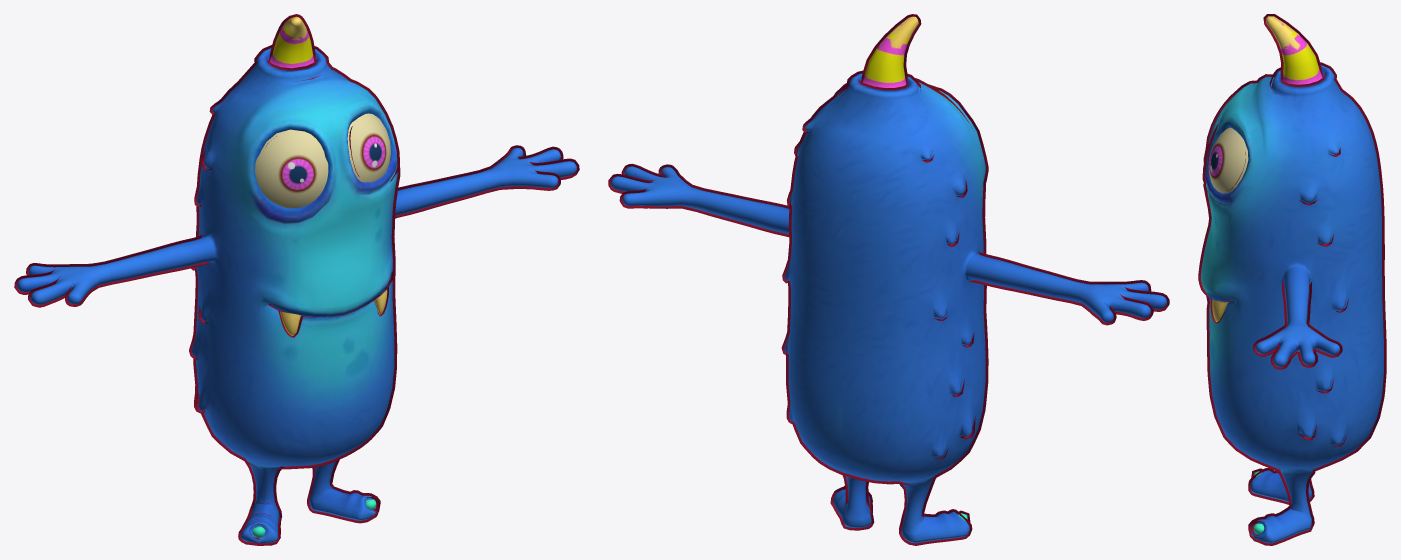
File: kit_monster_a.glb
3 renders of one model, left to right at view 1: azimuth 30°, elevation 25°; view 2: azimuth 150°, elevation 25°; view 3: azimuth 270°, elevation 25°, orthographic. The views are drawn at different scales.
Parts seen in each view (by area): view 1: geo_monster_A_body, geo_monster_A_outLine, geo_monster_A_eyeR, geo_monster_A_eyeL; view 2: geo_monster_A_body, geo_monster_A_outLine; view 3: geo_monster_A_body, geo_monster_A_outLine, geo_monster_A_eyeL.
Part boxes in pixels (x1,y1,x2,y2): geo_monster_A_body: (17,16,576,543); geo_monster_A_outLine: (14,14,579,545); geo_monster_A_eyeR: (255,129,328,208); geo_monster_A_eyeL: (347,113,390,182); geo_monster_A_body: (611,16,1166,543); geo_monster_A_outLine: (608,14,1169,545); geo_monster_A_body: (1201,16,1383,543); geo_monster_A_outLine: (1198,14,1386,545); geo_monster_A_eyeL: (1209,127,1248,193).
Size of the model in its own units: 0.7352 by 0.6586 by 0.2275.
Materials: 3 (2 with a texture image).
